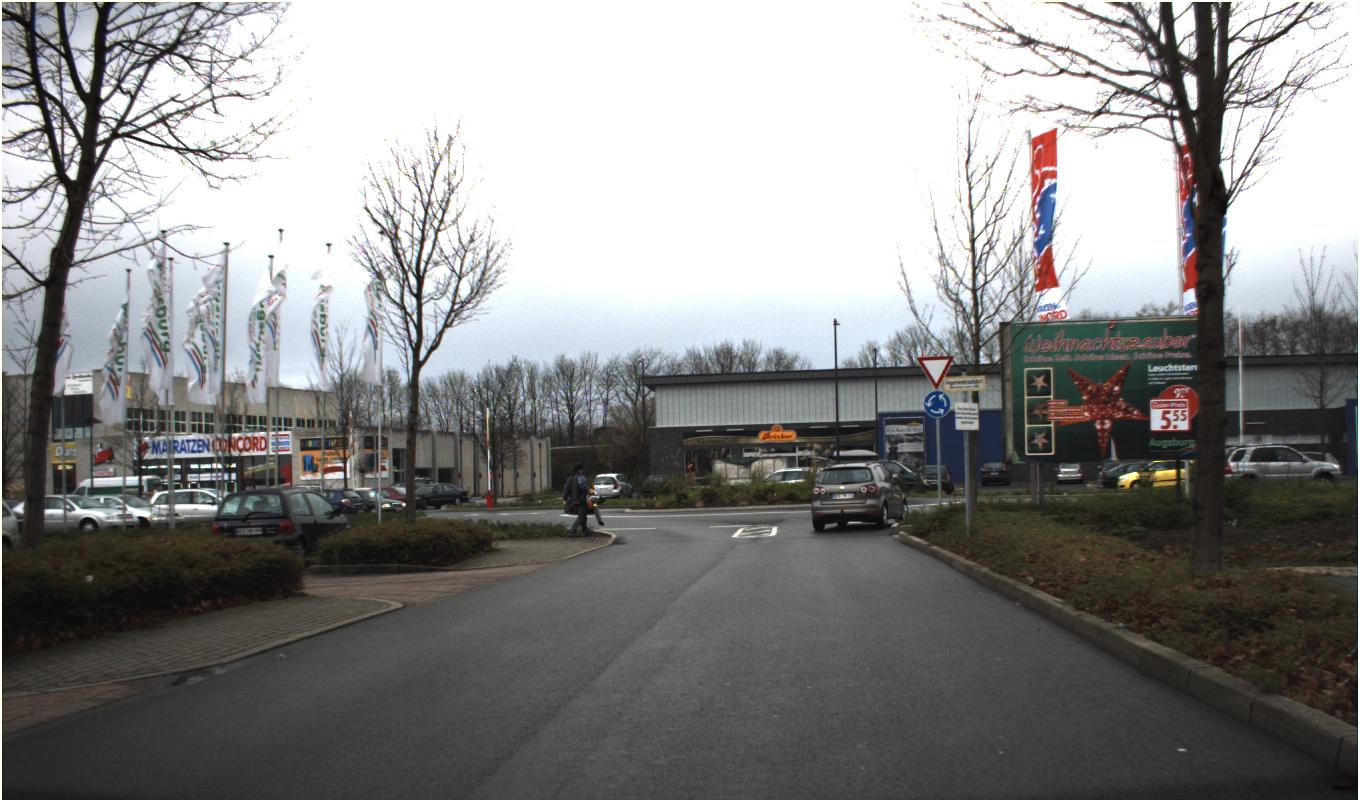mandatory: (922, 389, 951, 419)
sign: (915, 354, 955, 390)
